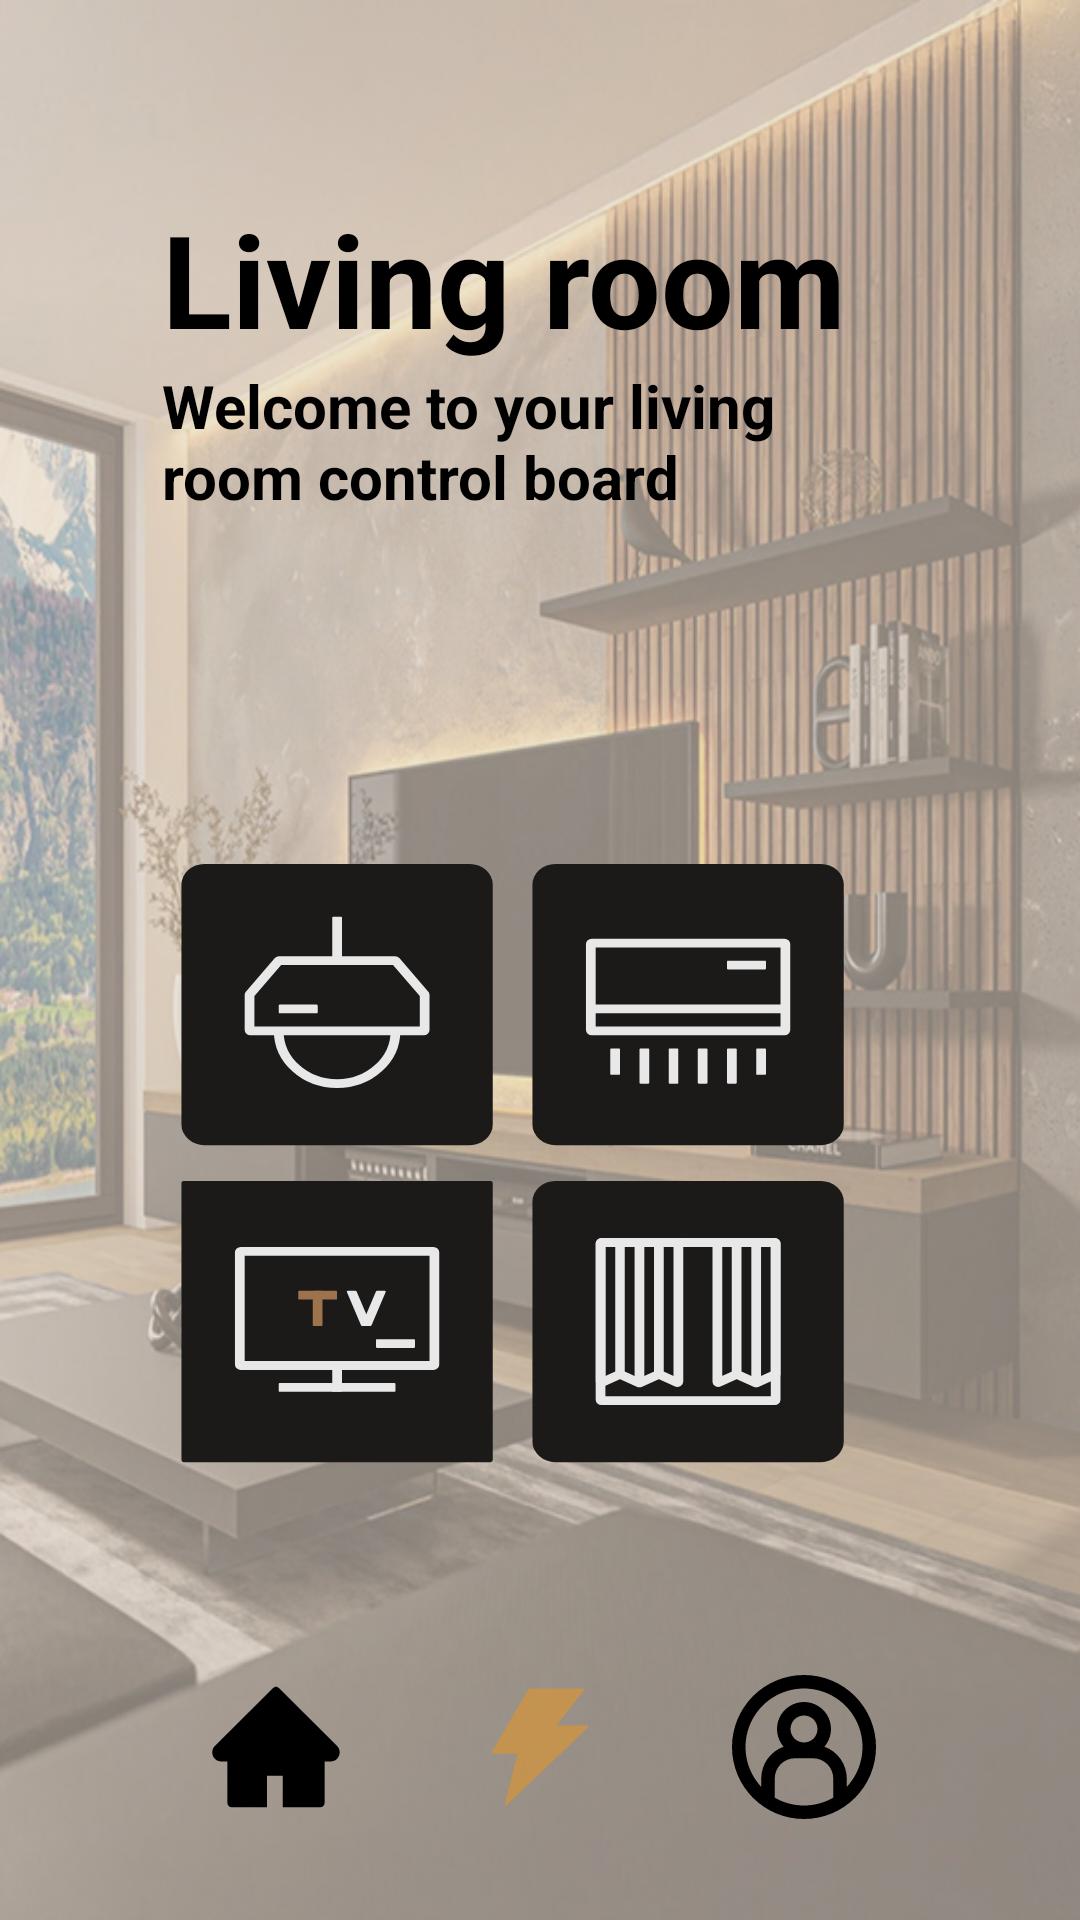

Screen size 1080 × 1920. Icon name, then its center in pixels as point (x, y):
air: point (688, 1022)
homep: point (276, 1747)
light: point (337, 1022)
profilep: point (804, 1747)
window: point (688, 1339)
